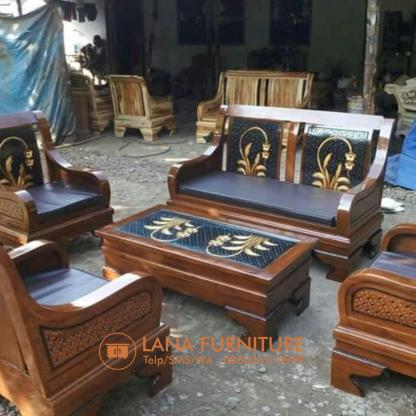kursi: (2, 246, 176, 412), (3, 113, 110, 250)
meja: (101, 202, 320, 352)
sova: (167, 104, 385, 265)
